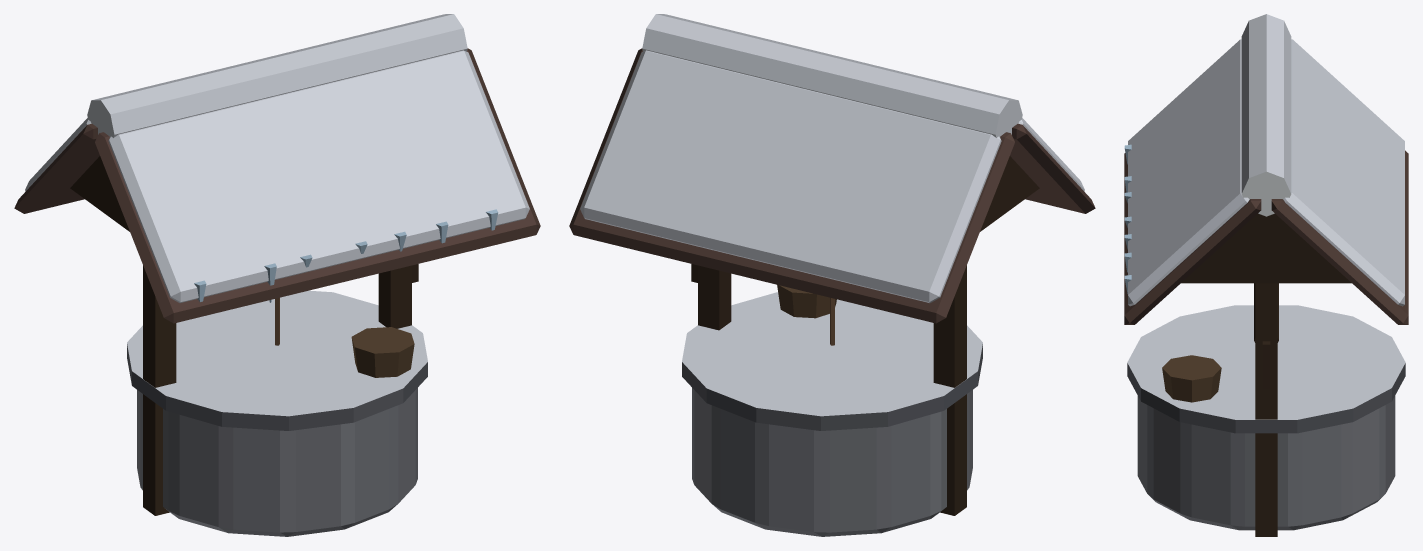
Rendered from village_well.glb.
3 renders of one model, left to right at view 1: azimuth 30°, elevation 25°; view 2: azimuth 150°, elevation 25°; view 3: azimuth 270°, elevation 25°, orthographic. The views are drawn at different scales.
Visible parts, largest first — view 1: village_well; view 2: village_well; view 3: village_well.
Part boxes in pixels (x1,y1,x2,y2): village_well: [14, 14, 540, 536]; village_well: [569, 14, 1095, 536]; village_well: [1124, 14, 1408, 536].
Bounding box in the file's own units: 3.2 × 3.43 × 2.28.
